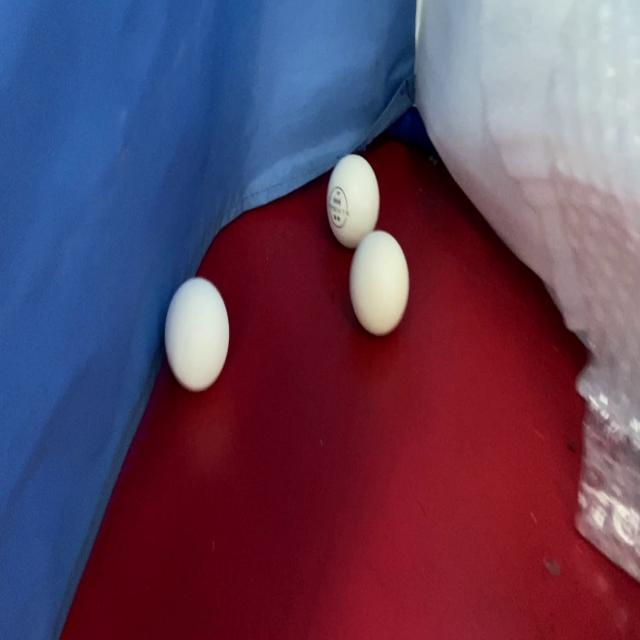ping-pong-ball: (162, 270, 231, 396), (347, 228, 412, 338), (324, 150, 382, 248)
